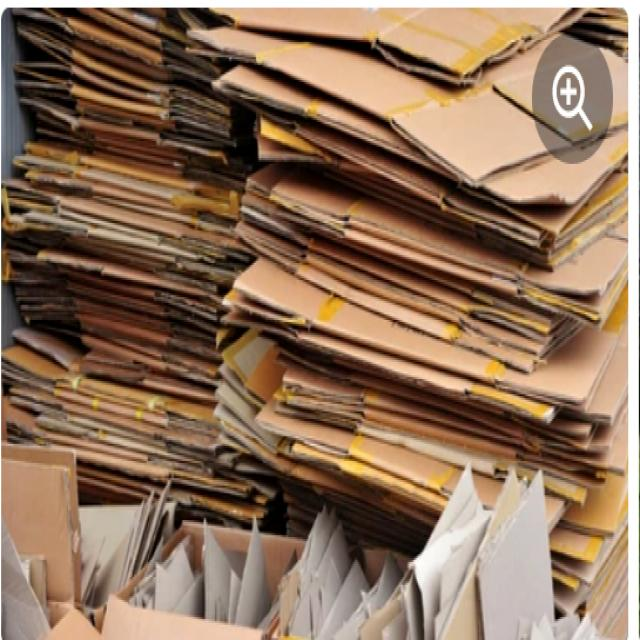Cardboard: (249, 182, 622, 429), (4, 342, 292, 539), (239, 14, 524, 163), (17, 13, 235, 190), (8, 196, 232, 341)
